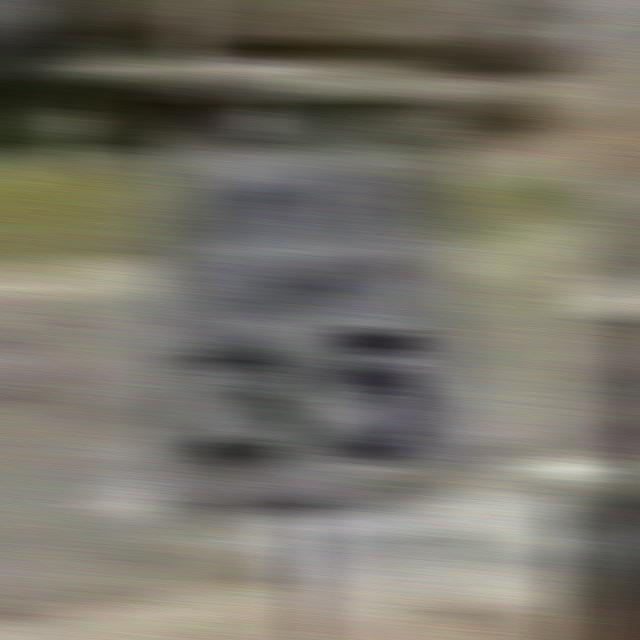speedLimit35: (139, 121, 471, 533)
